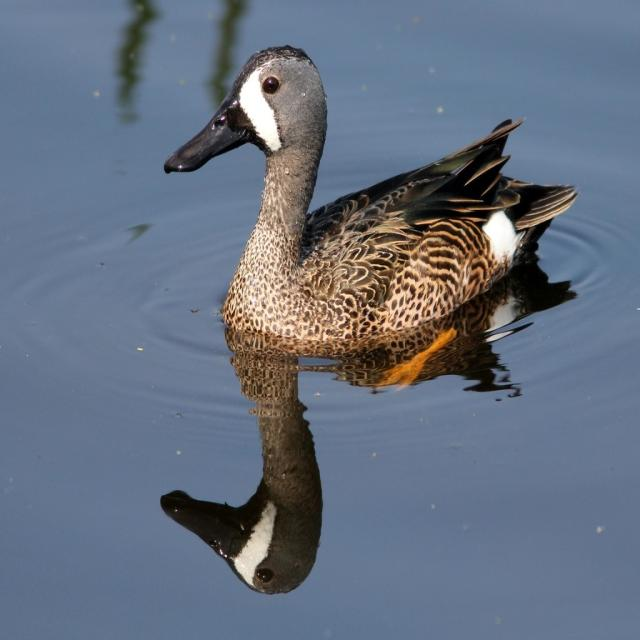bird: (164, 44, 344, 186)
